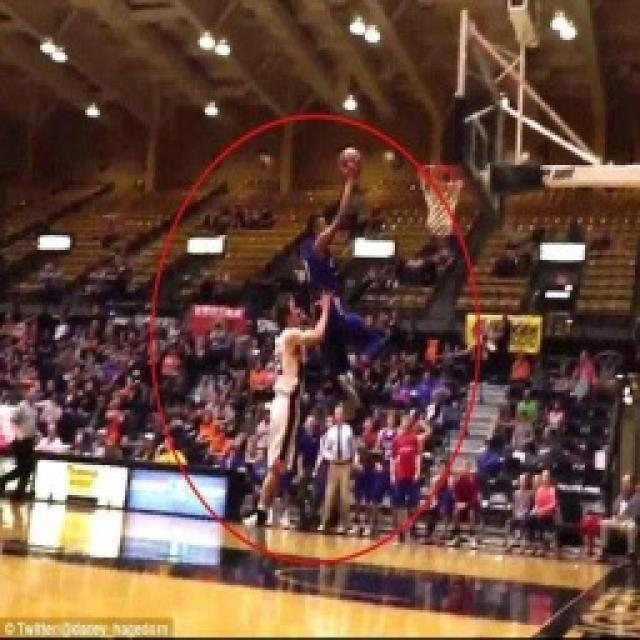rim: (340, 138, 368, 172)
